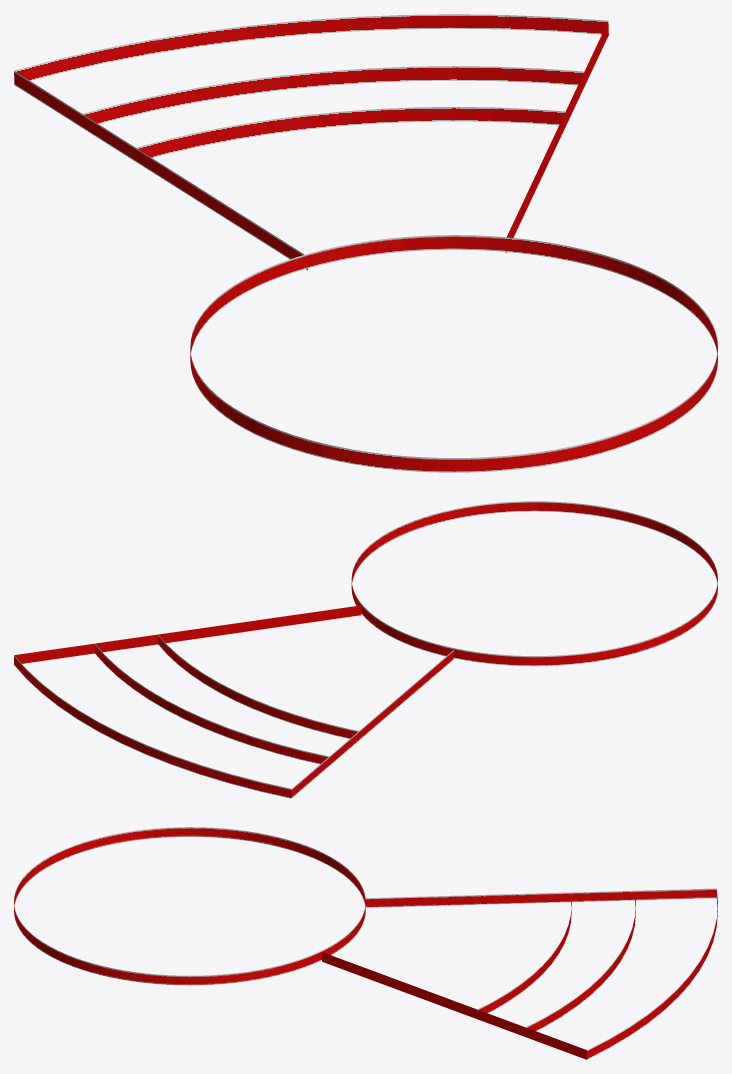
Rendered from 攻击范围.FBX.
3 views of the same model, one above another, from view 1: azimuth 30°, elevation 25°; view 2: azimuth 150°, elevation 25°; view 3: azimuth 270°, elevation 25° (orthographic). The views are drawn at different scales.
Visible parts, largest first — view 1: 范围大圈, 对象007, 对象005, 对象048, 对象021, 对象022, 对象024, 对象049, 对象023, 对象020, 对象019, 对象018 (+3 smaller); view 2: 范围大圈, 对象052, 对象007, 对象010, 对象051; view 3: 范围大圈, 对象007, 对象048, 对象050, 对象005, 对象049, 对象010, 对象009.
Part boxes in pixels (<box>): 范围大圈: <box>190,235,717,472</box>; 对象007: <box>135,148,307,270</box>; 对象005: <box>14,71,82,127</box>; 对象048: <box>505,112,565,252</box>; 对象021: <box>350,15,402,31</box>; 对象022: <box>402,14,454,29</box>; 对象024: <box>505,15,557,31</box>; 对象049: <box>82,114,136,161</box>; 对象023: <box>454,14,505,29</box>; 对象020: <box>299,17,350,34</box>; 对象019: <box>249,20,299,39</box>; 对象018: <box>199,25,249,46</box>; 范围大圈: <box>351,501,717,666</box>; 对象052: <box>158,605,361,643</box>; 对象007: <box>358,652,453,740</box>; 对象010: <box>14,643,94,663</box>; 对象051: <box>94,634,157,652</box>; 范围大圈: <box>14,827,365,985</box>; 对象007: <box>365,892,570,907</box>; 对象048: <box>322,952,476,1018</box>; 对象050: <box>365,893,570,907</box>; 对象005: <box>635,888,716,900</box>; 对象049: <box>571,890,635,902</box>; 对象010: <box>525,1027,586,1059</box>; 对象009: <box>477,1009,525,1036</box>.
Bounding box in the file's own units: 3346 × 79.26 × 4494.
